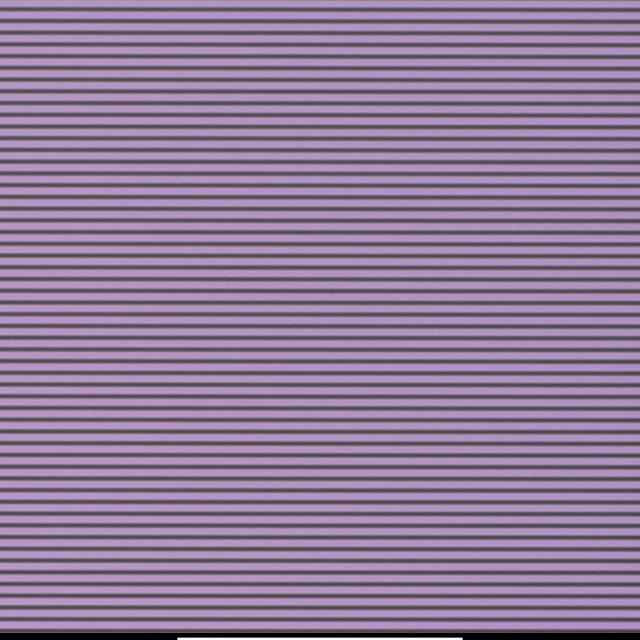nonvisual: (327, 290, 337, 299)
